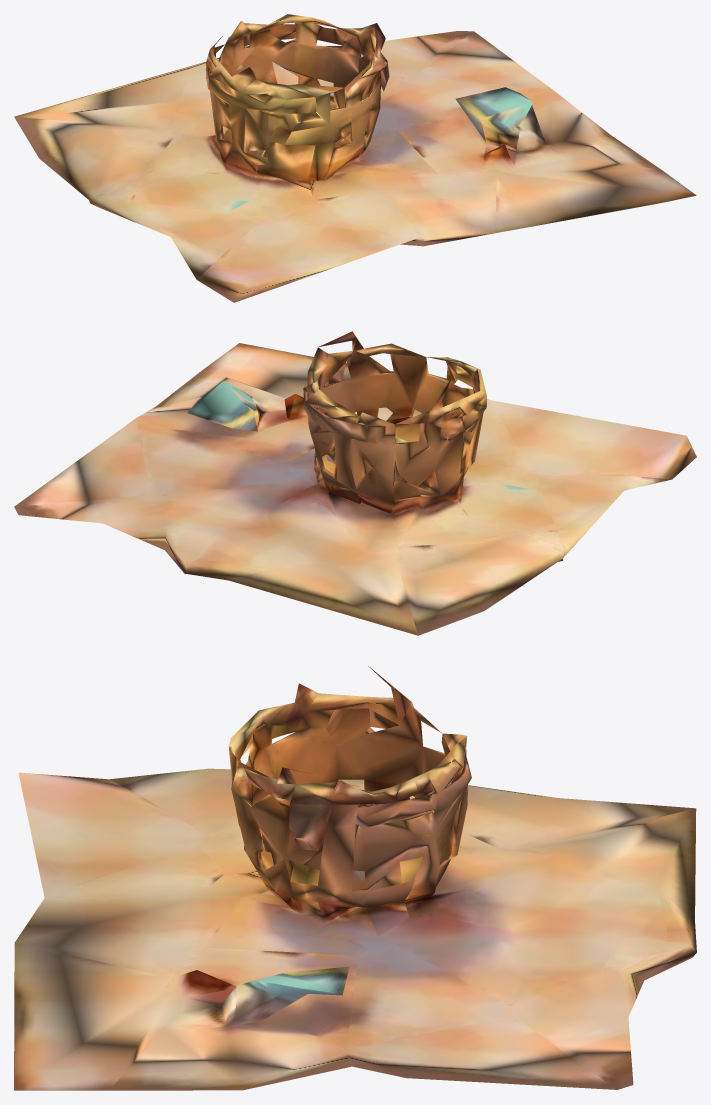
The model's file is picnic_blanket.glb.
3 renders of one model, top to bottom at view 1: azimuth 30°, elevation 25°; view 2: azimuth 150°, elevation 25°; view 3: azimuth 270°, elevation 25°, orthographic. The views are drawn at different scales.
Visible parts, largest first — view 1: tripo_node_b955030e-4205-4987-bff0-ec0e4735786a; view 2: tripo_node_b955030e-4205-4987-bff0-ec0e4735786a; view 3: tripo_node_b955030e-4205-4987-bff0-ec0e4735786a.
Boxes of the visible parts, box(x1,y1,x2,y2) form: tripo_node_b955030e-4205-4987-bff0-ec0e4735786a: box(14, 14, 696, 302); tripo_node_b955030e-4205-4987-bff0-ec0e4735786a: box(14, 331, 696, 635); tripo_node_b955030e-4205-4987-bff0-ec0e4735786a: box(14, 666, 696, 1090).
Size of the model in its own units: 0.968 by 0.3048 by 0.9108.
1 material, 1 textured.
